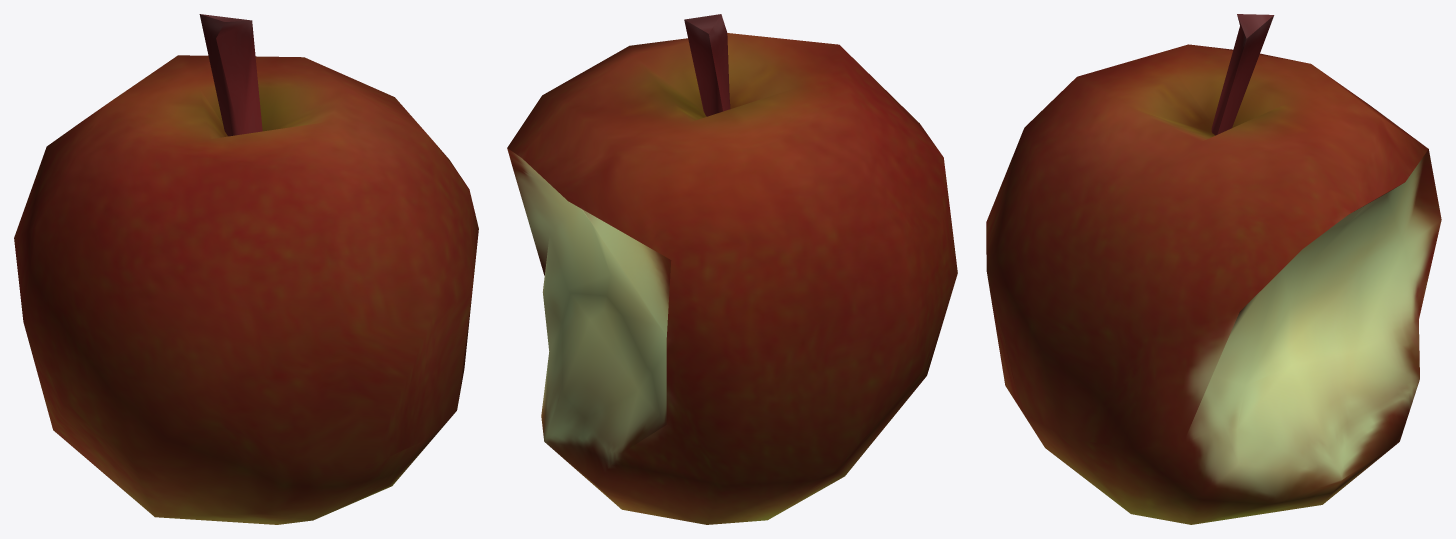
File: apple_bite_low.fbx
3 renders of one model, left to right at view 1: azimuth 30°, elevation 25°; view 2: azimuth 150°, elevation 25°; view 3: azimuth 270°, elevation 25°, orthographic. The views are drawn at different scales.
Visible parts, largest first — view 1: apple_ganwed; view 2: apple_ganwed; view 3: apple_ganwed.
Boxes of the visible parts, x1,y1,x2,y2 form: apple_ganwed: (14, 14, 478, 524); apple_ganwed: (507, 14, 957, 524); apple_ganwed: (986, 14, 1441, 524).
Size of the model in its own units: 5.28 by 5.96 by 5.22.
